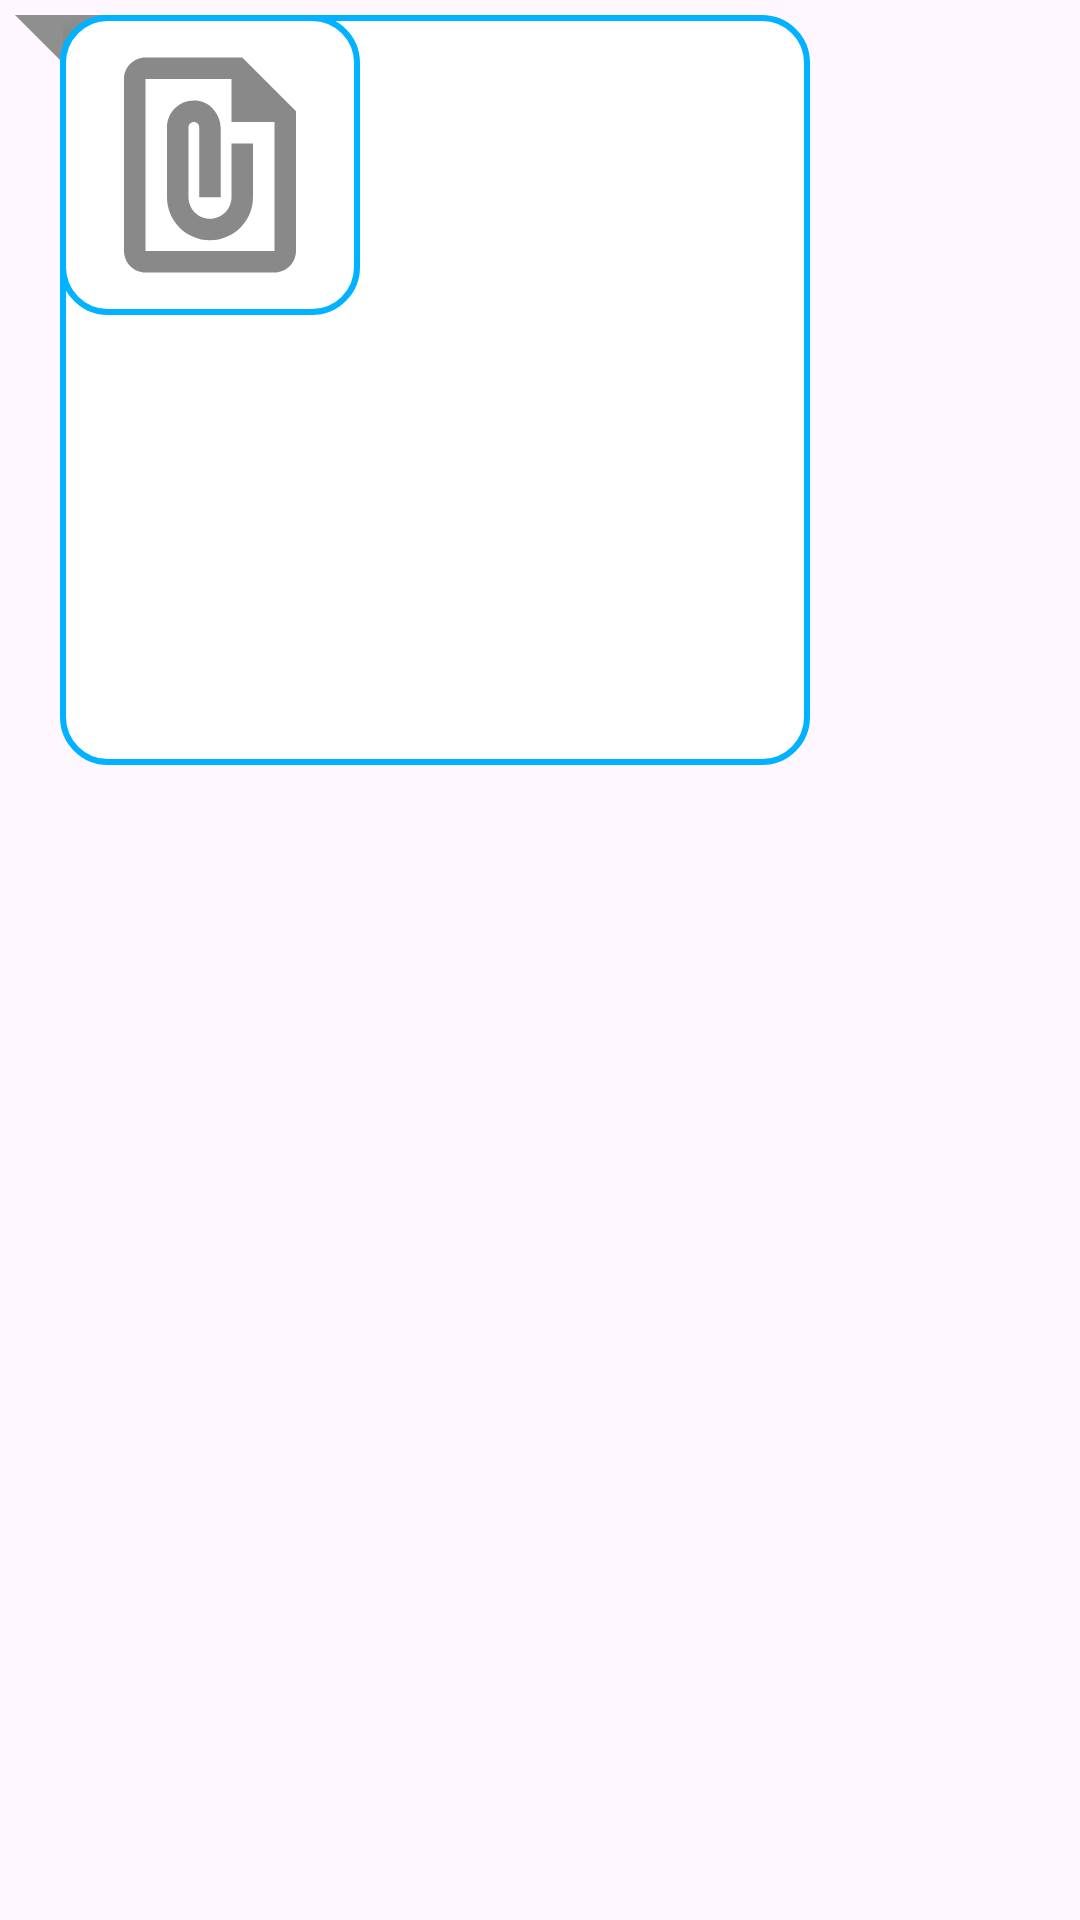

Icons on this 1080px x 1920px Android screen, each with the point to tap as (x,y):
file: (210,165)
